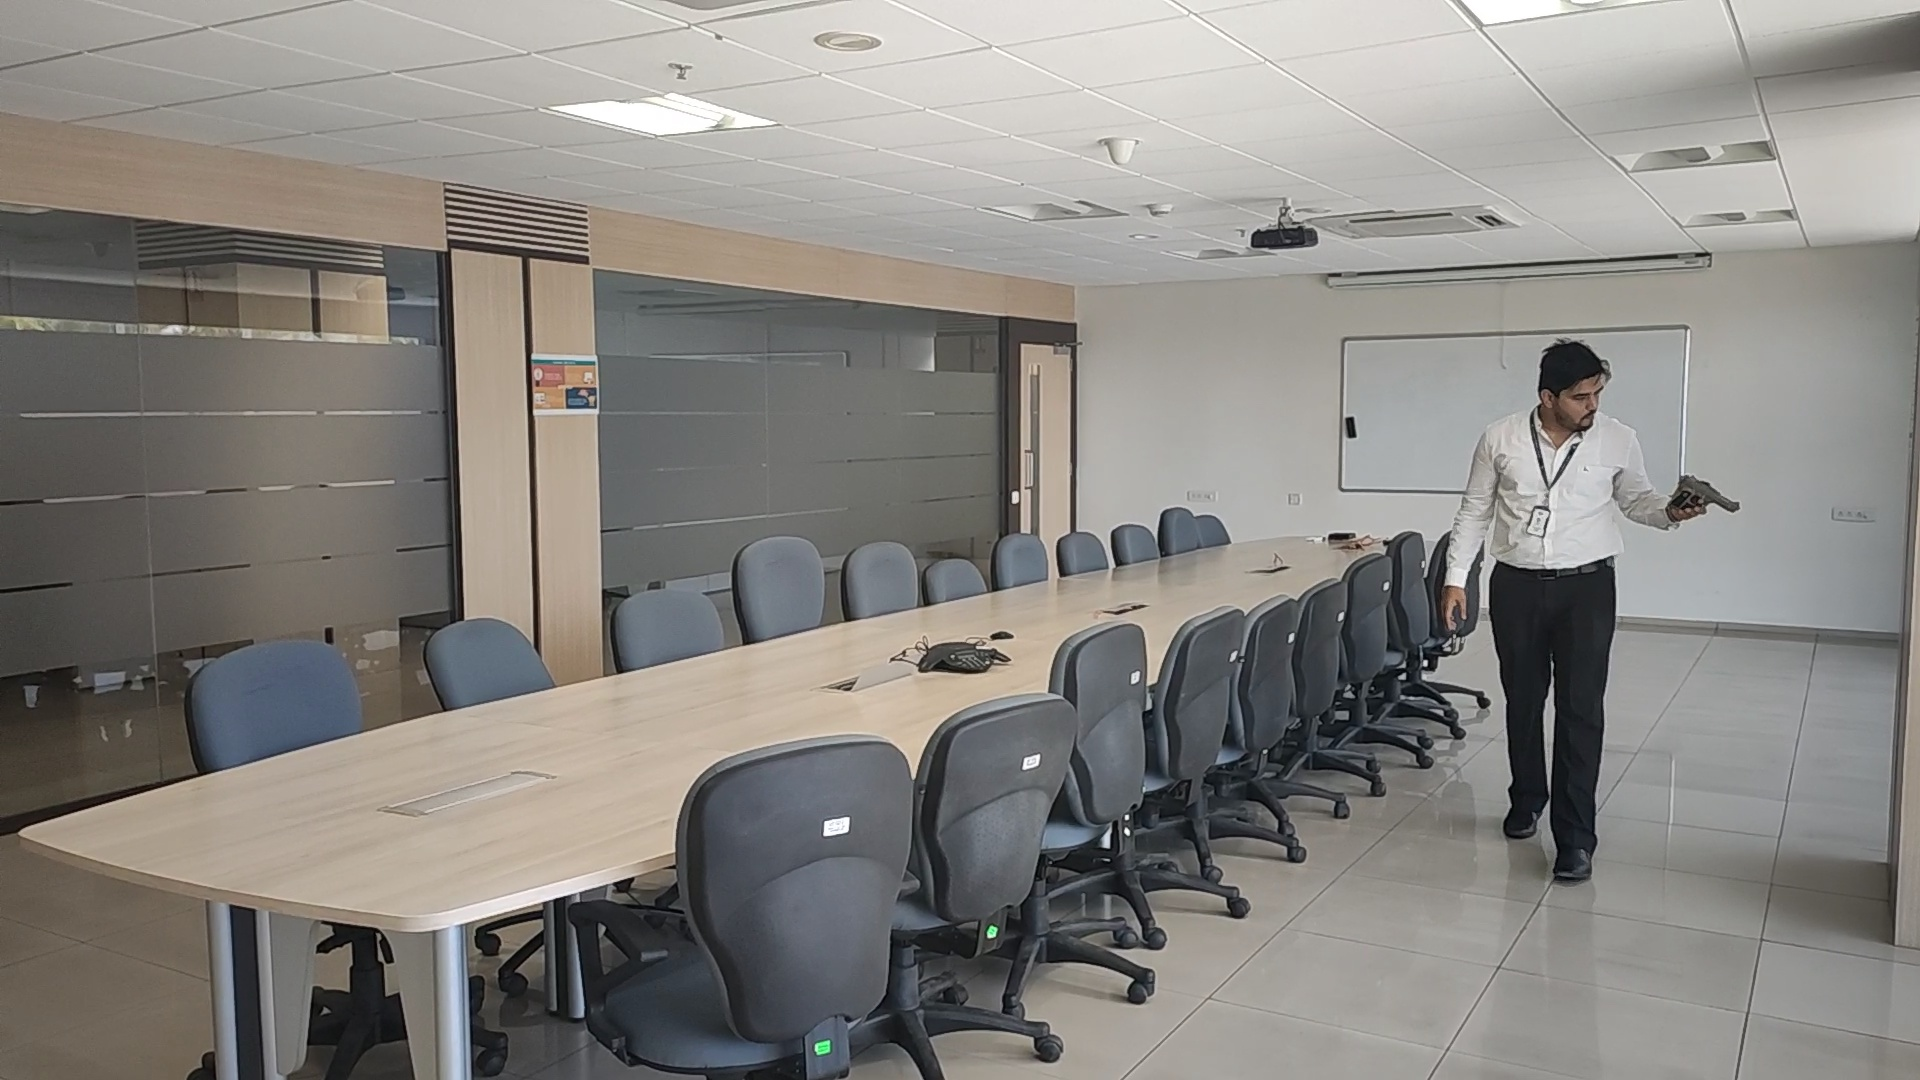gun: (1681, 473, 1741, 516)
